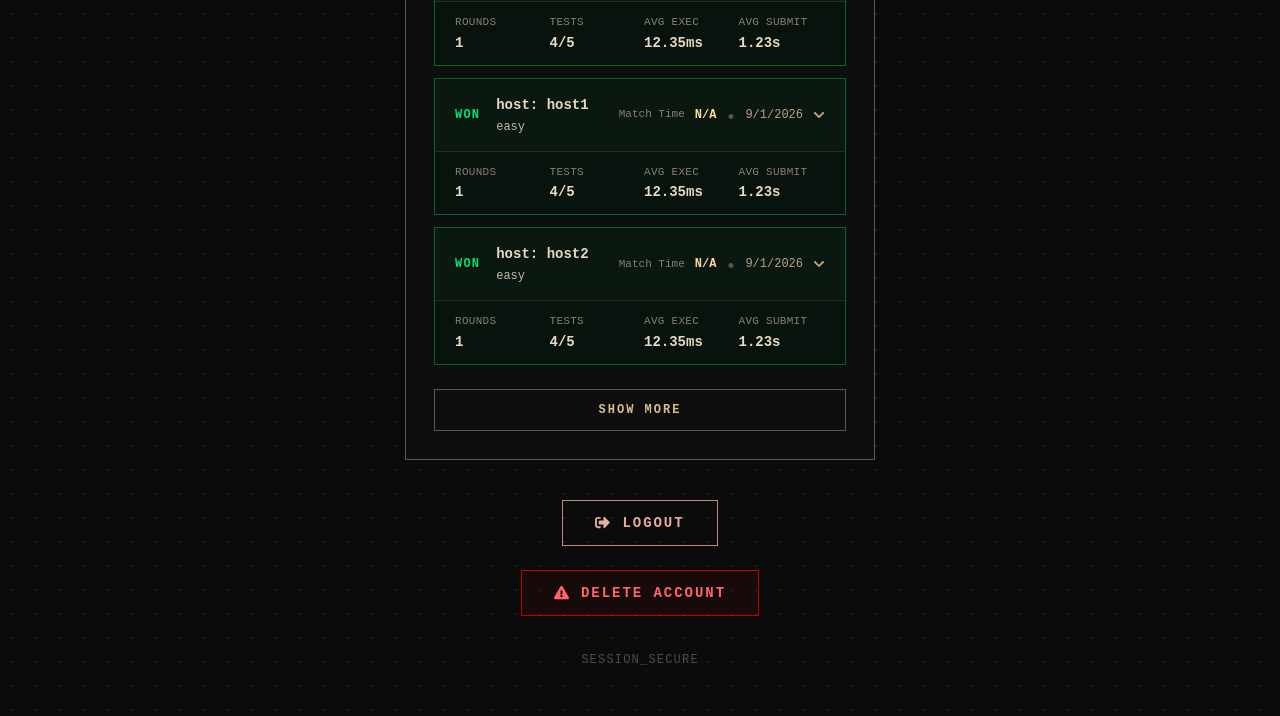
Profile match history › opens the ALL MATCHES modal and paginates via LOAD MORE
(page scrolled)
Click the button "SHOW MORE": (640, 410) 434,388 -> 846,430
(page scrolled)
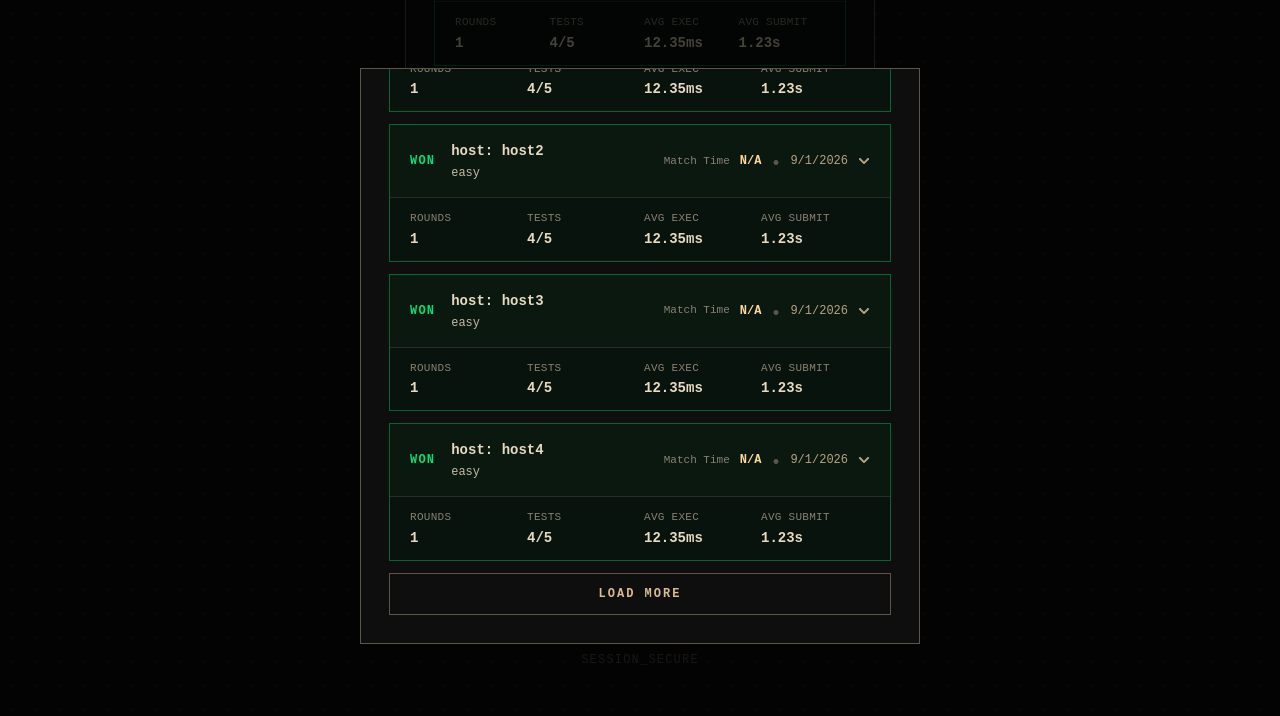
Now the button "LOAD MORE" is shown
Click the button "LOAD MORE": (640, 594) 389,572 -> 891,614
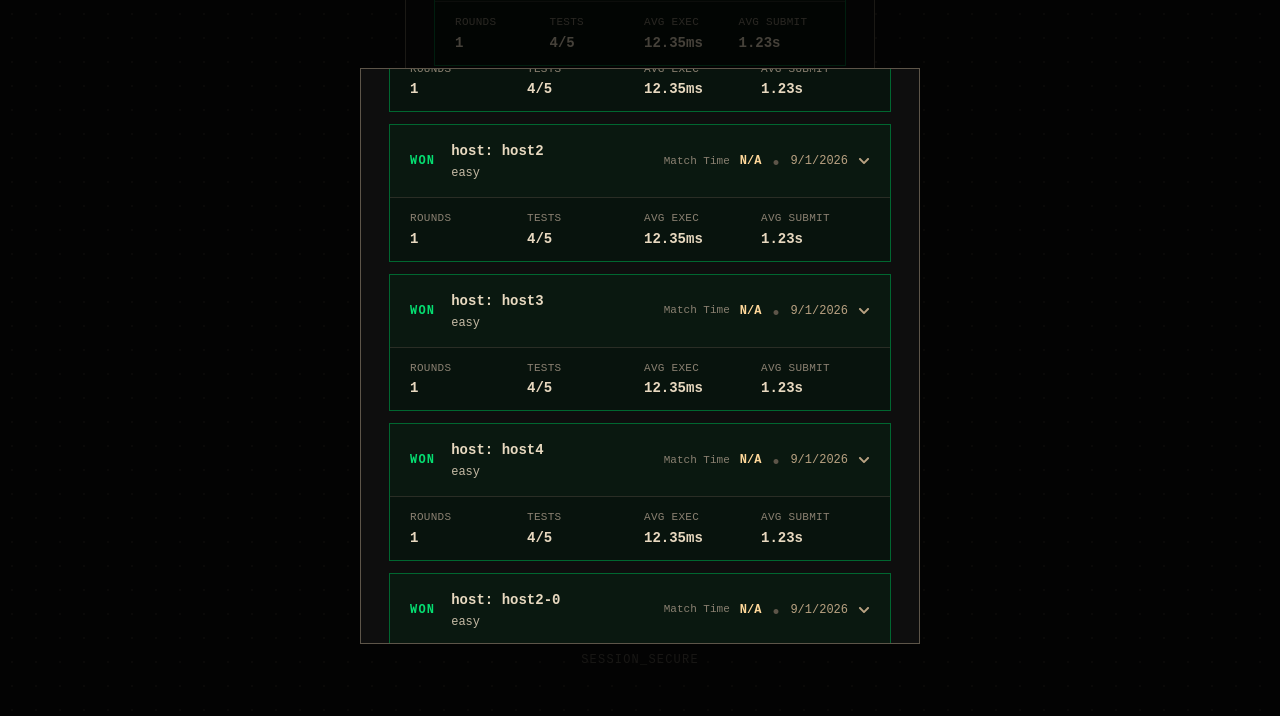
Now the text "host: host2-0" is shown, box 451,590 -> 560,610
